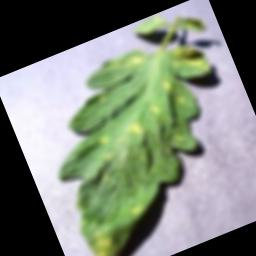Leaf_Mold: (72, 200, 147, 256), (120, 118, 148, 144)
